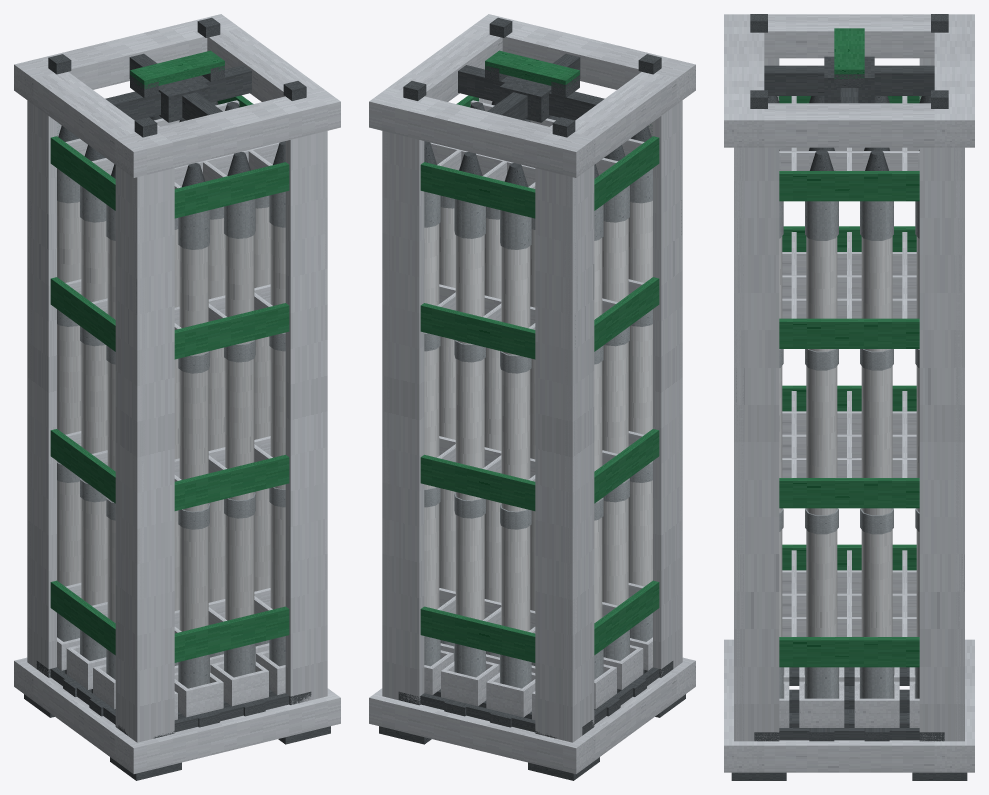
The model's file is tvs_combined.obj.
3 views of the same model, side by side, from view 1: azimuth 30°, elevation 25°; view 2: azimuth 150°, elevation 25°; view 3: azimuth 270°, elevation 25° (orthographic). The views are drawn at different scales.
Bounding box in the file's own units: 1 × 3 × 1.
